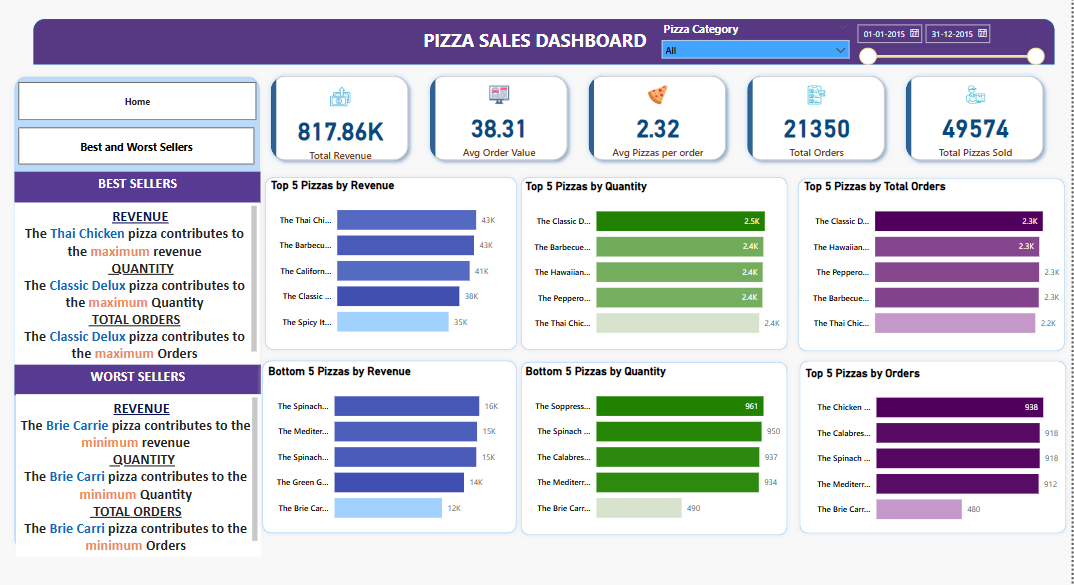

The page's visual inventory and layout, read from the dashboard file:
{"tool":"powerbi","page":{"name":"Best and Worst Sellers","canvas":[1600,885],"ordinal":1},"visuals":[{"type":"cardVisual","fields":{"Data":["pizza_sales (1).Total Revenue","pizza_sales (1).Avg Order Value","pizza_sales (1).Avg Pizzas per order","pizza_sales (1).Total Orders","pizza_sales (1).Total Pizzas Sold"]},"box":[388,102,1188,160],"z":0},{"type":"shape","box":[50,33.3,1525,68.3],"z":1000},{"type":"textbox","box":[620,42.5,357.5,50],"z":2000},{"type":"shape","box":[388,262,392,274],"z":3000},{"type":"shape","box":[14,112,382,724],"z":4000},{"type":"textbox","box":[21.8,261.8,367.3,46.4],"z":5000},{"type":"textbox","box":[21.8,308.2,366.4,243.6],"z":6000},{"type":"textbox","box":[21.8,549.1,368.2,45.5],"z":7000},{"type":"textbox","box":[24,594,366,242],"z":8000},{"type":"slicer","fields":{"Values":["pizza_sales (1).pizza_category"]},"box":[977.1,32.9,300,68.6],"z":9000},{"type":"slicer","fields":{"Values":["pizza_sales (1).order_date"]},"box":[1267.1,32.9,300,95.7],"z":10000},{"type":"shape","box":[770,262,414,274],"z":11000},{"type":"shape","box":[1184,264,414,274],"z":12000},{"type":"shape","box":[384.5,536.4,395.5,273.6],"z":13000},{"type":"shape","box":[770,537.3,413.6,274.5],"z":14000},{"type":"shape","box":[1186,536,414,274],"z":15000},{"type":"barChart","title":"Top 5 Pizzas by Revenue","fields":{"Category":["pizza_sales (1).pizza_name"],"Y":["pizza_sales (1).Total Revenue"]},"box":[399.2,272.5,365,250],"z":16000},{"type":"barChart","title":"Bottom 5 Pizzas by Revenue","fields":{"Category":["pizza_sales (1).pizza_name"],"Y":["pizza_sales (1).Total Revenue"]},"box":[396.2,550,365,250],"z":17000},{"type":"barChart","title":"Top 5 Pizzas by Quantity","fields":{"Category":["pizza_sales (1).pizza_name"],"Y":["pizza_sales (1).Total Pizzas Sold"]},"box":[780,273.8,391.2,250],"z":18000},{"type":"barChart","title":"Bottom 5 Pizzas by Quantity","fields":{"Category":["pizza_sales (1).pizza_name"],"Y":["pizza_sales (1).Total Pizzas Sold"]},"box":[780,550,391.2,250],"z":19000},{"type":"barChart","title":"Top 5 Pizzas by Total Orders","fields":{"Category":["pizza_sales (1).pizza_name"],"Y":["pizza_sales (1).Total Orders"]},"box":[1195.7,274.3,391.4,250],"z":20000},{"type":"barChart","title":"Top 5 Pizzas by Orders","fields":{"Category":["pizza_sales (1).pizza_name"],"Y":["pizza_sales (1).Total Orders"]},"box":[1197.1,552.9,391.4,250],"z":20001},{"type":"pageNavigator","box":[27.5,127.5,355,57.5],"z":20002},{"type":"pageNavigator","box":[27.5,196.2,352.5,55],"z":20003}]}

Visuals, with their boxes in screenshot pixels (x1, y1, x2, y2), scaled from the page's 1600x885 canvas onto the 1074x585 screenshot:
cardVisual - pizza_sales (1).Total Revenue x pizza_sales (1).Avg Order Value: x1=260 y1=67 x2=1058 y2=173
shape: x1=34 y1=22 x2=1057 y2=67
textbox: x1=416 y1=28 x2=656 y2=61
shape: x1=260 y1=173 x2=524 y2=354
shape: x1=9 y1=74 x2=266 y2=553
textbox: x1=15 y1=173 x2=261 y2=204
textbox: x1=15 y1=204 x2=261 y2=365
textbox: x1=15 y1=363 x2=262 y2=393
textbox: x1=16 y1=393 x2=262 y2=553
slicer - pizza_sales (1).pizza_category: x1=656 y1=22 x2=857 y2=67
slicer - pizza_sales (1).order_date: x1=851 y1=22 x2=1052 y2=85
shape: x1=517 y1=173 x2=795 y2=354
shape: x1=795 y1=175 x2=1073 y2=356
shape: x1=258 y1=355 x2=524 y2=535
shape: x1=517 y1=355 x2=794 y2=537
shape: x1=796 y1=354 x2=1073 y2=535
"Top 5 Pizzas by Revenue" barChart: x1=268 y1=180 x2=513 y2=345
"Bottom 5 Pizzas by Revenue" barChart: x1=266 y1=364 x2=511 y2=529
"Top 5 Pizzas by Quantity" barChart: x1=524 y1=181 x2=786 y2=346
"Bottom 5 Pizzas by Quantity" barChart: x1=524 y1=364 x2=786 y2=529
"Top 5 Pizzas by Total Orders" barChart: x1=803 y1=181 x2=1065 y2=347
"Top 5 Pizzas by Orders" barChart: x1=804 y1=365 x2=1066 y2=531
pageNavigator: x1=18 y1=84 x2=257 y2=122
pageNavigator: x1=18 y1=130 x2=255 y2=166
